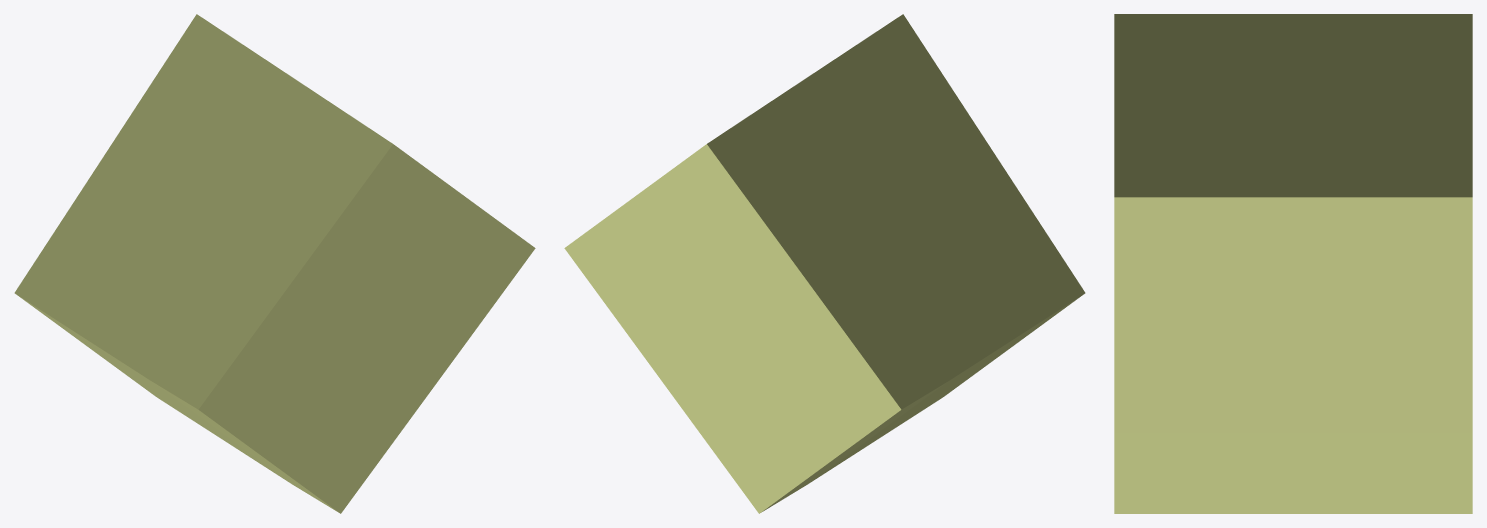
3 renders of one model, left to right at view 1: azimuth 30°, elevation 25°; view 2: azimuth 150°, elevation 25°; view 3: azimuth 270°, elevation 25°, orthographic. The views are drawn at different scales.
Parts seen in each view (by area): view 1: 0_1_2_0_1_3_0_2_0_1_3; view 2: 0_1_2_0_1_3_0_2_0_1_3; view 3: 0_1_2_0_1_3_0_2_0_1_3.
Part boxes in pixels (left/top/right/bottom): 0_1_2_0_1_3_0_2_0_1_3: left=14, top=14, right=535, bottom=513; 0_1_2_0_1_3_0_2_0_1_3: left=564, top=14, right=1085, bottom=513; 0_1_2_0_1_3_0_2_0_1_3: left=1114, top=14, right=1472, bottom=513.
Size of the model in its own units: 9.22 by 9.21 by 6.
